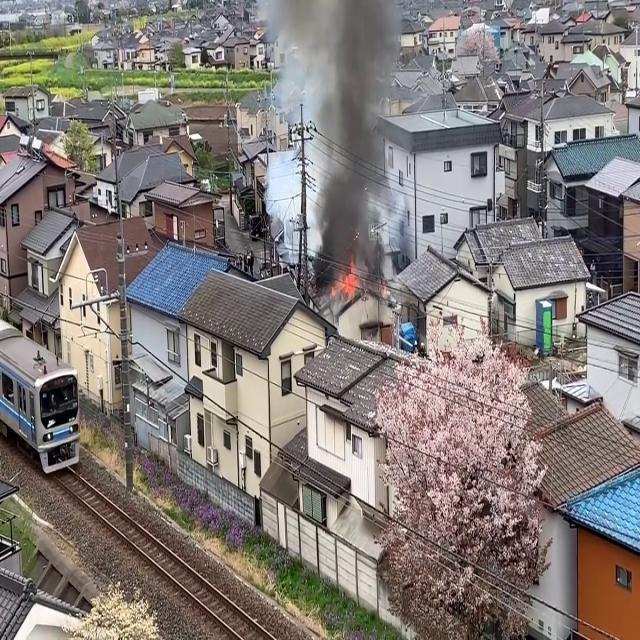Fire: (332, 254, 362, 302)
Smoke: (310, 0, 400, 278)
